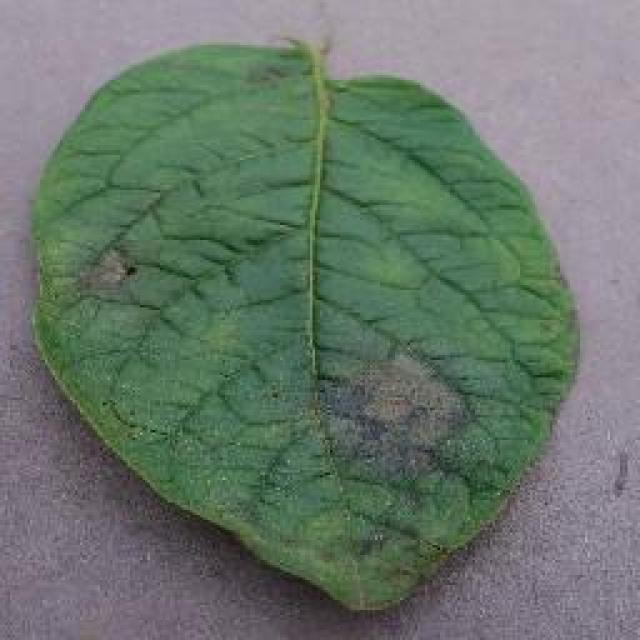Potato___Late_blight: (27, 38, 586, 615)
